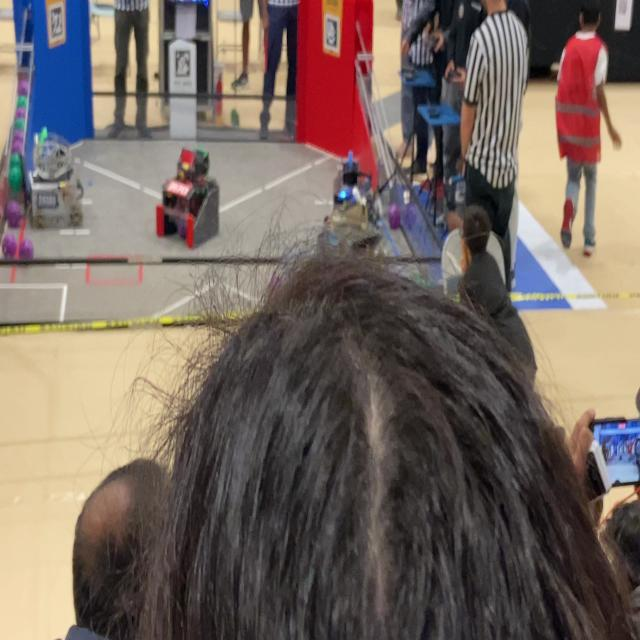artifact_green: (10, 153, 21, 168), (14, 118, 25, 130), (17, 96, 28, 108)
artifact_purple: (6, 201, 21, 228), (2, 233, 17, 259), (9, 166, 23, 193), (404, 204, 417, 229), (389, 203, 401, 230), (18, 239, 33, 260), (267, 273, 281, 295), (178, 216, 187, 239), (18, 80, 29, 95), (12, 138, 22, 154), (13, 130, 24, 143), (14, 118, 25, 131), (16, 108, 26, 118), (88, 180, 92, 186)
